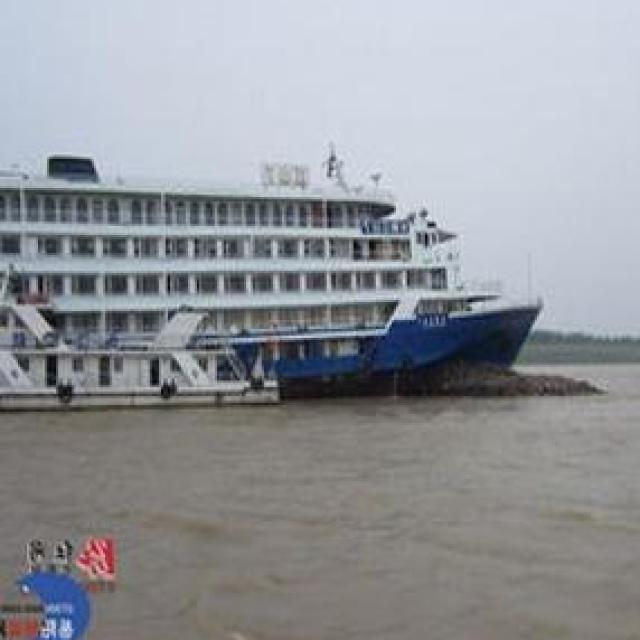passenger ship: (0, 156, 540, 409)
